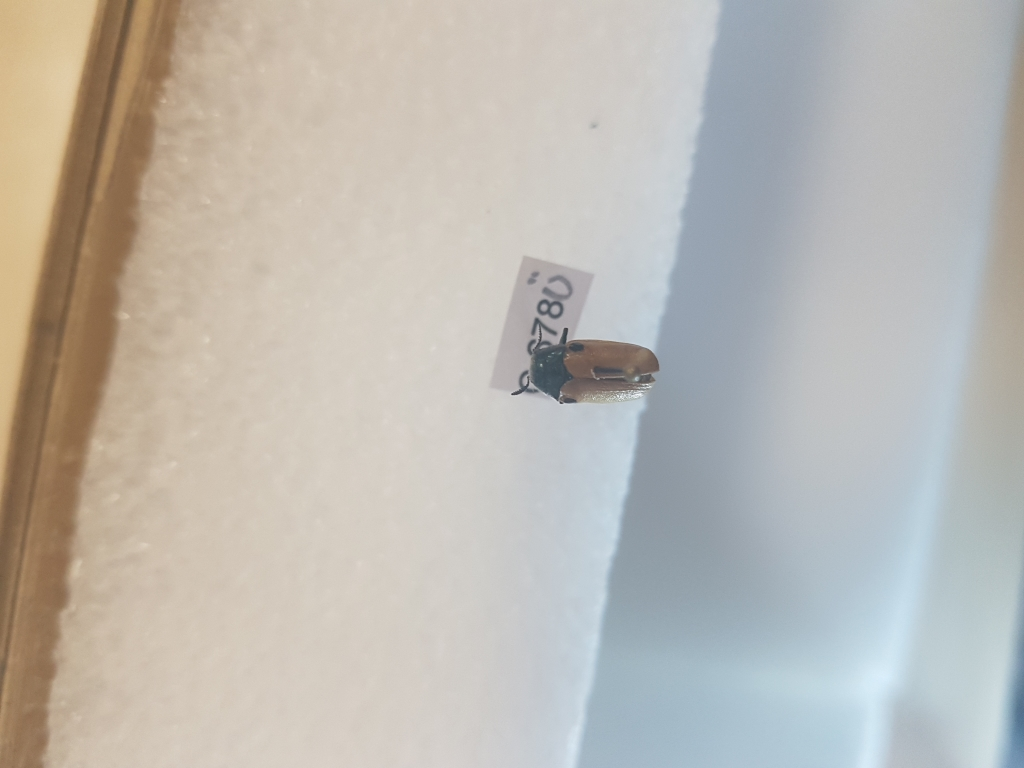Labidostomis_longimana: (526, 324, 665, 406)
